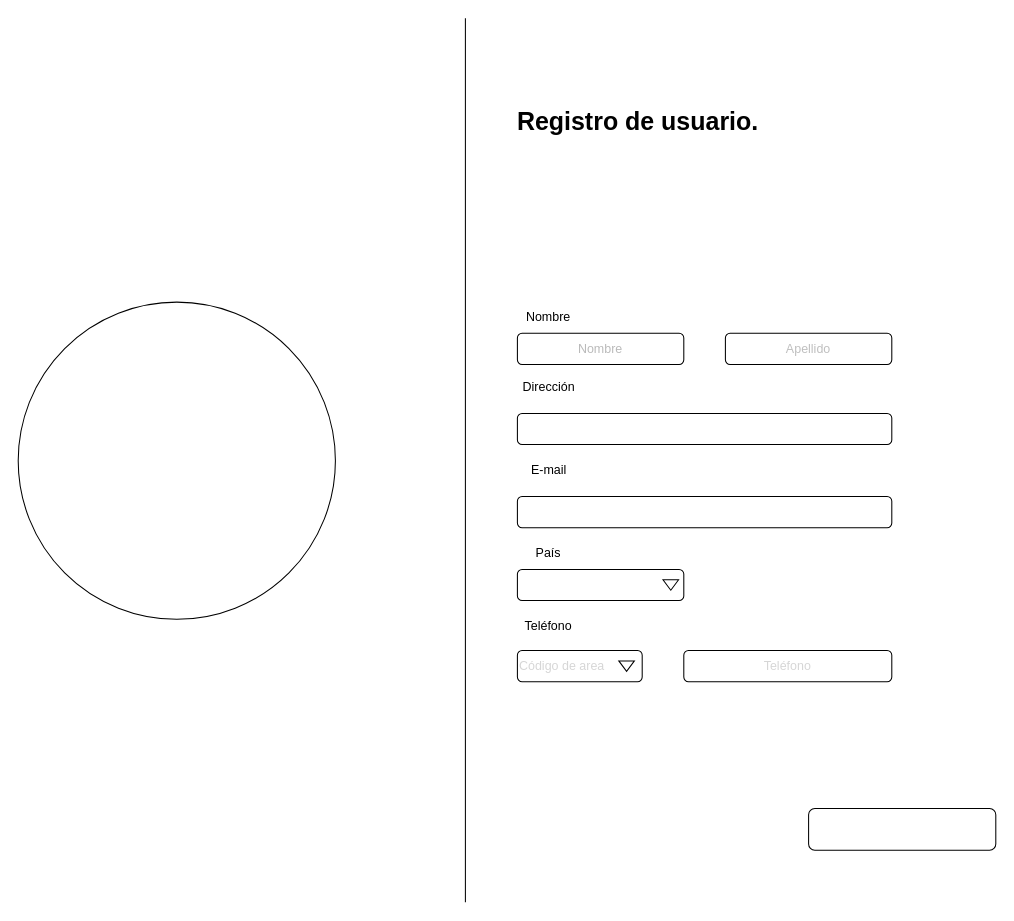
Some shapes in this 1014 by 921 pixel diagram are drawn without their labels. The shapes that lost their labels are listed below. From the top down, each one's centre as x and y in pixels, then its label:
At [176,460]: "LOGO".
At [902,829]: "ACEPTAR".
